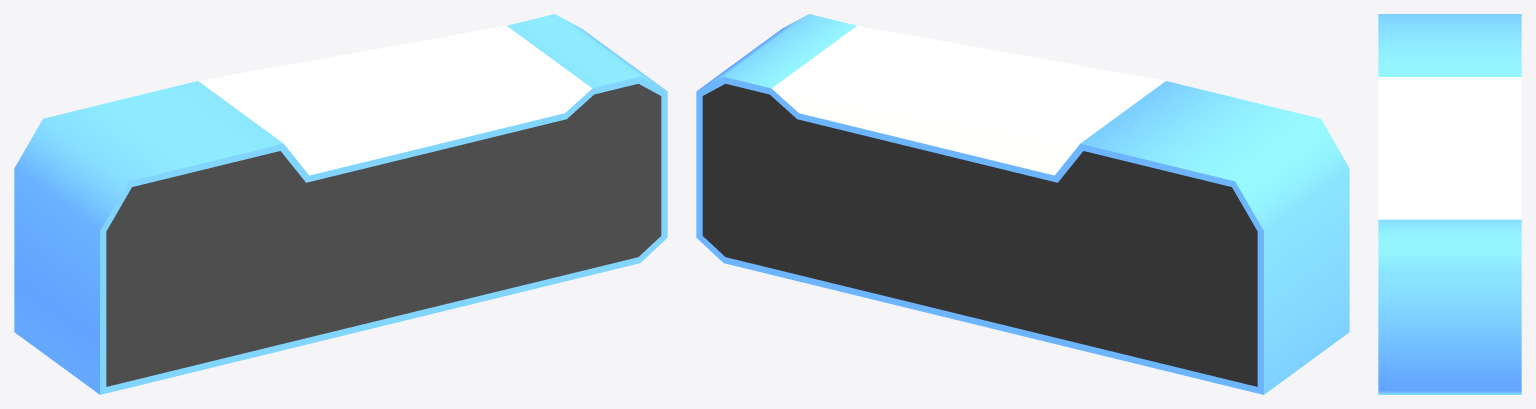
3 renders of one model, left to right at view 1: azimuth 30°, elevation 25°; view 2: azimuth 150°, elevation 25°; view 3: azimuth 270°, elevation 25°, orthographic. The views are drawn at different scales.
Parts seen in each view (by area): view 1: HUD; view 2: HUD; view 3: HUD.
Part boxes in pixels (x1=…): HUD: x1=14, y1=14, x2=667, y2=394; HUD: x1=696, y1=14, x2=1349, y2=394; HUD: x1=1378, y1=14, x2=1521, y2=394.
Size of the model in its own units: 7.64 by 2.66 by 2.
1 material, 1 textured.
